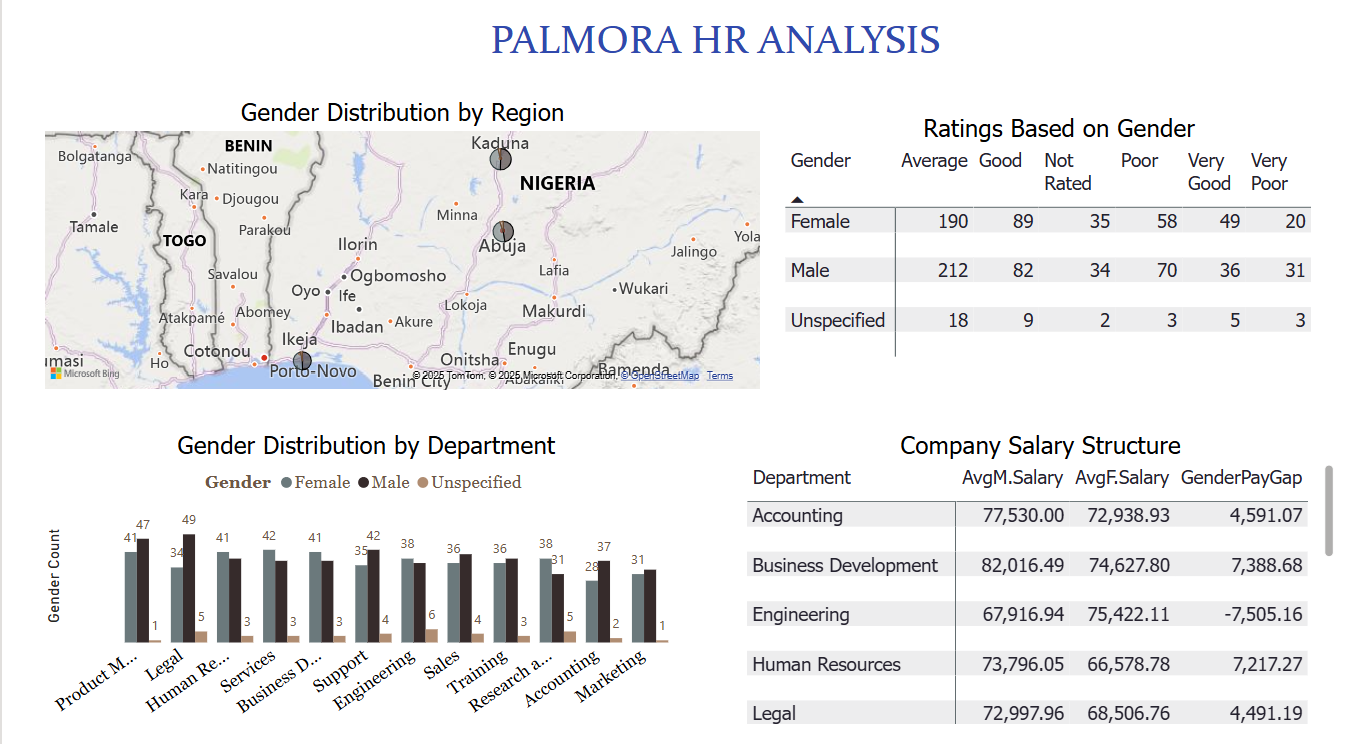

What the dashboard file says about the page in this screenshot:
{"tool":"powerbi","page":{"name":"Page 1","canvas":[1280,720],"ordinal":0},"visuals":[{"type":"textbox","box":[371.1,21.4,580.6,64.3],"z":0},{"type":"clusteredColumnChart","title":"Gender Distribution by Department ","fields":{"Y":["Sheet1.Gender Count"],"Series":["Sheet1.Gender"],"Category":["Sheet1.Department"]},"box":[34.6,412.4,605.4,277.1],"z":3000},{"type":"pivotTable","title":"Ratings Based on Gender","fields":{"Values":["Sheet1.Gender Count"],"Rows":["Sheet1.Gender"],"Columns":["Sheet1.Rating"]},"box":[722.5,118.8,517.9,262.3],"z":4000},{"type":"pivotTable","title":"Company Salary Structure","fields":{"Values":["EmployeeData.AvgMaleSalary","EmployeeData.AvgFemaleSalary","EmployeeData.GenderPayGap"],"Rows":["Sheet1.Department"]},"box":[686.2,412.4,554.2,277.1],"z":5000},{"type":"map","title":"Gender Distribution by Region","fields":{"Category":["EmployeeData.Location"],"Size":["EmployeeData.Gender Count"],"Series":["EmployeeData.Gender"]},"box":[34.6,103.9,673,275.5],"z":6000}]}

Visuals, with their boxes on the page's 1280x720 design canvas (x1, y1, x2, y2). These are canvas units, not pixel positions in the 1372x744 screenshot, which may show the page scaled, cropped or inside an application window:
textbox: l=371, t=21, r=952, b=86
"Gender Distribution by Department " clusteredColumnChart: l=35, t=412, r=640, b=690
"Ratings Based on Gender" pivotTable: l=722, t=119, r=1240, b=381
"Company Salary Structure" pivotTable: l=686, t=412, r=1240, b=690
"Gender Distribution by Region" map: l=35, t=104, r=708, b=379
